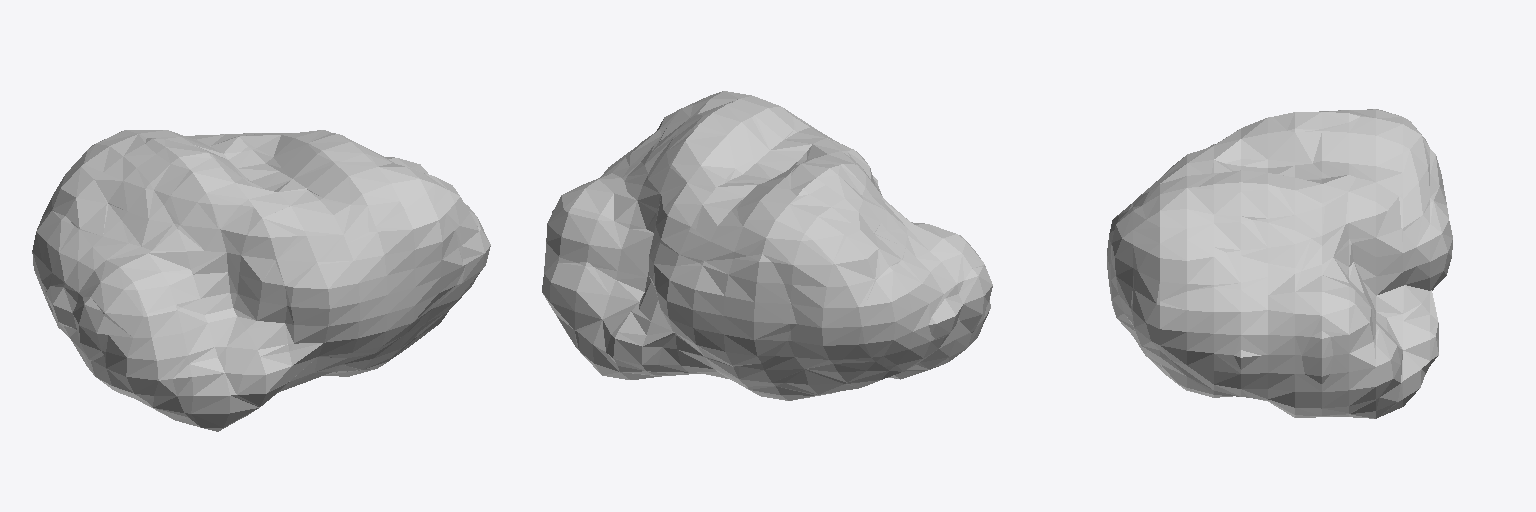
The model's file is 9ldt_1_cms.obj.
3 views of the same model, side by side, from view 1: azimuth 30°, elevation 25°; view 2: azimuth 150°, elevation 25°; view 3: azimuth 270°, elevation 25° (orthographic).
Bounding box in the file's own units: 96.02 × 51.48 × 73.21.